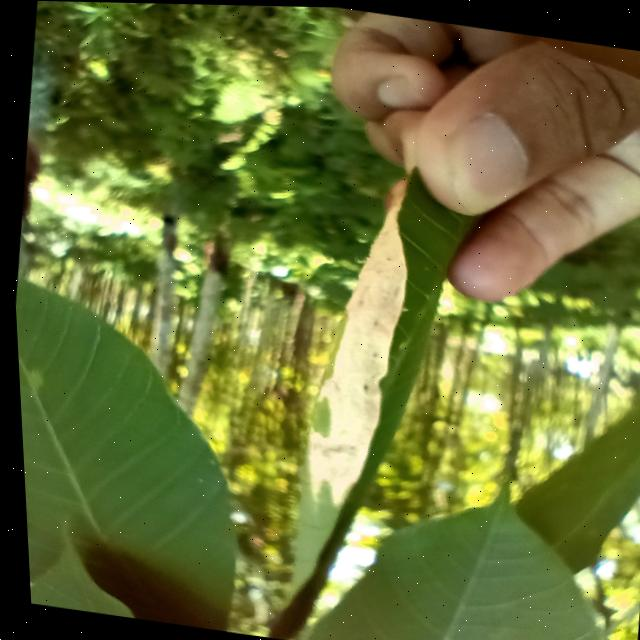Leaf-Blight: (285, 165, 426, 514)
